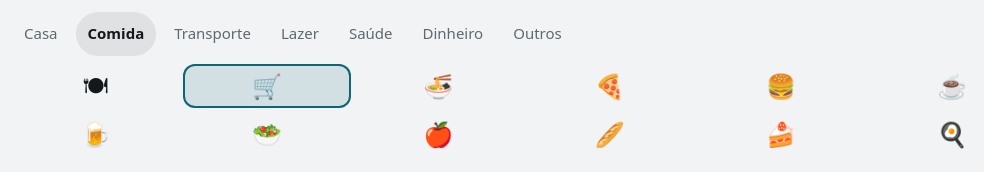
EmojiPicker › switching subject shows its emojis
The image size is (984, 172).
Click the button "Transporte": (213, 34) left=162, top=12, right=263, bottom=56
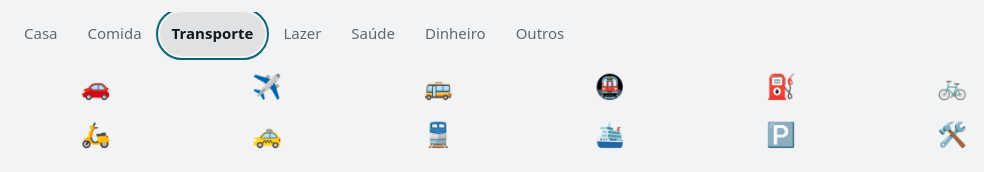
Expected: the button "🚗" is shown, left=12, top=64, right=179, bottom=108
Expected: the button "🛒" is gone
